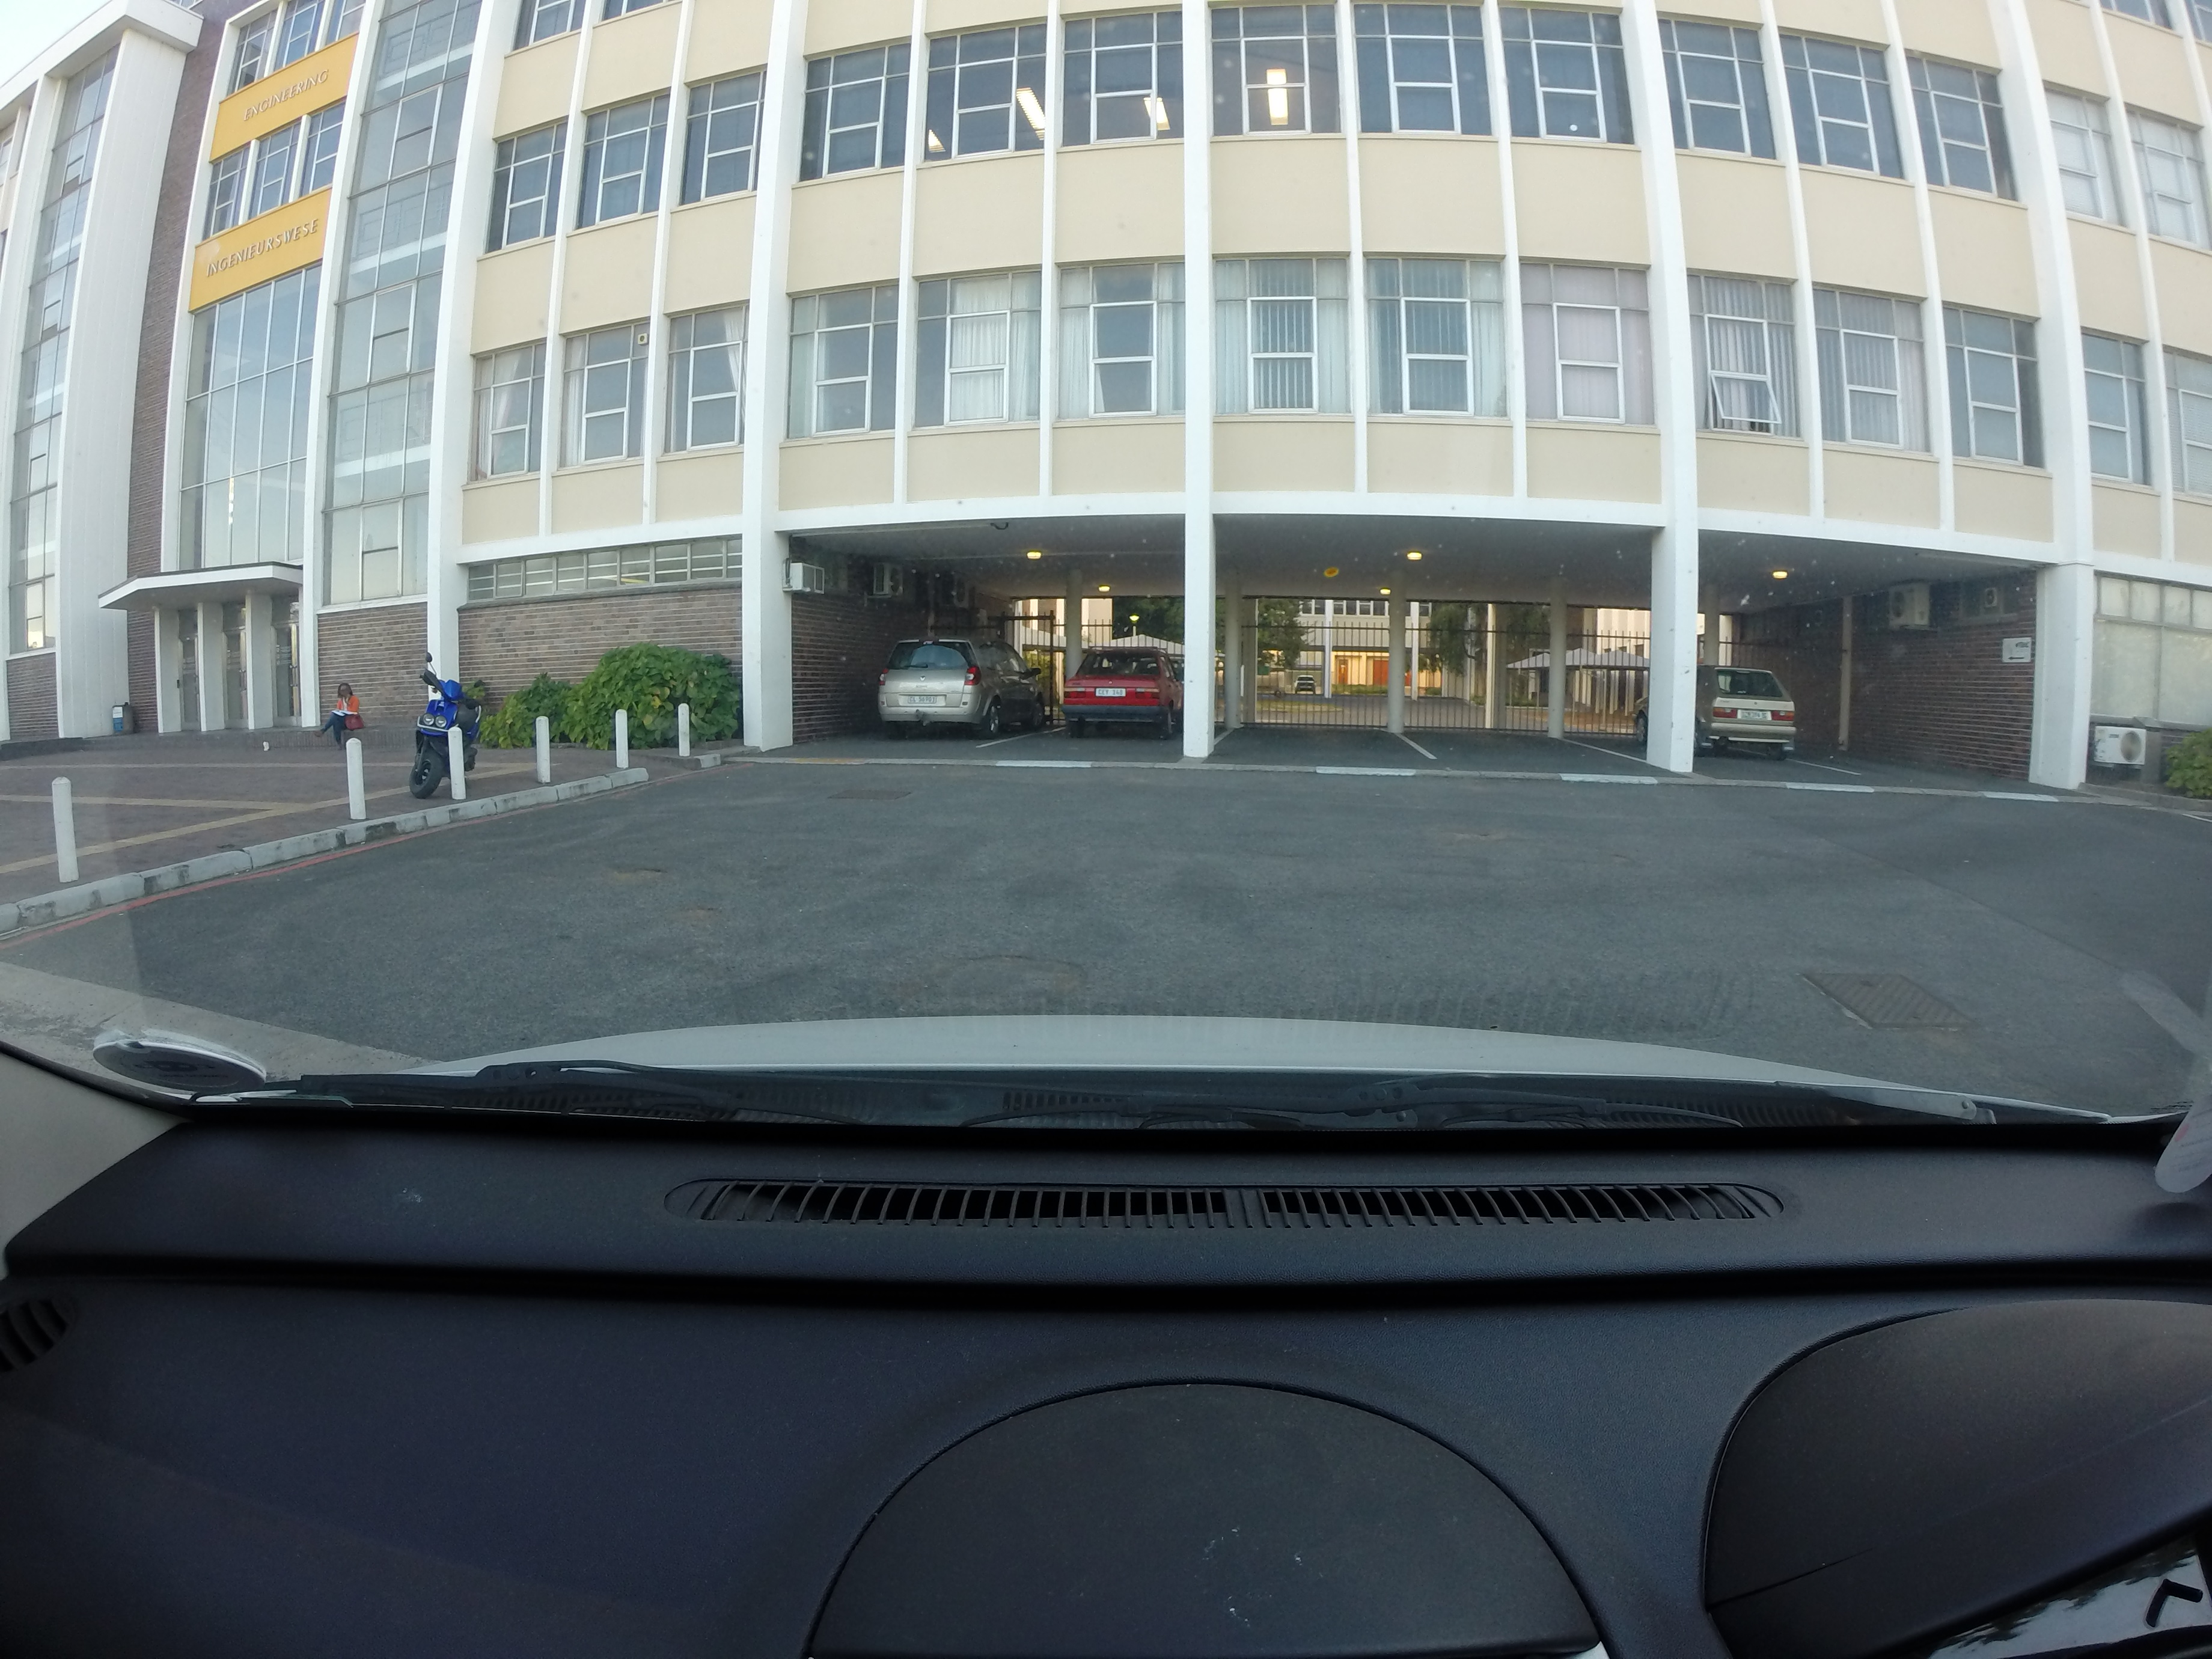pothole: (594, 857, 678, 884), (672, 903, 719, 924)
